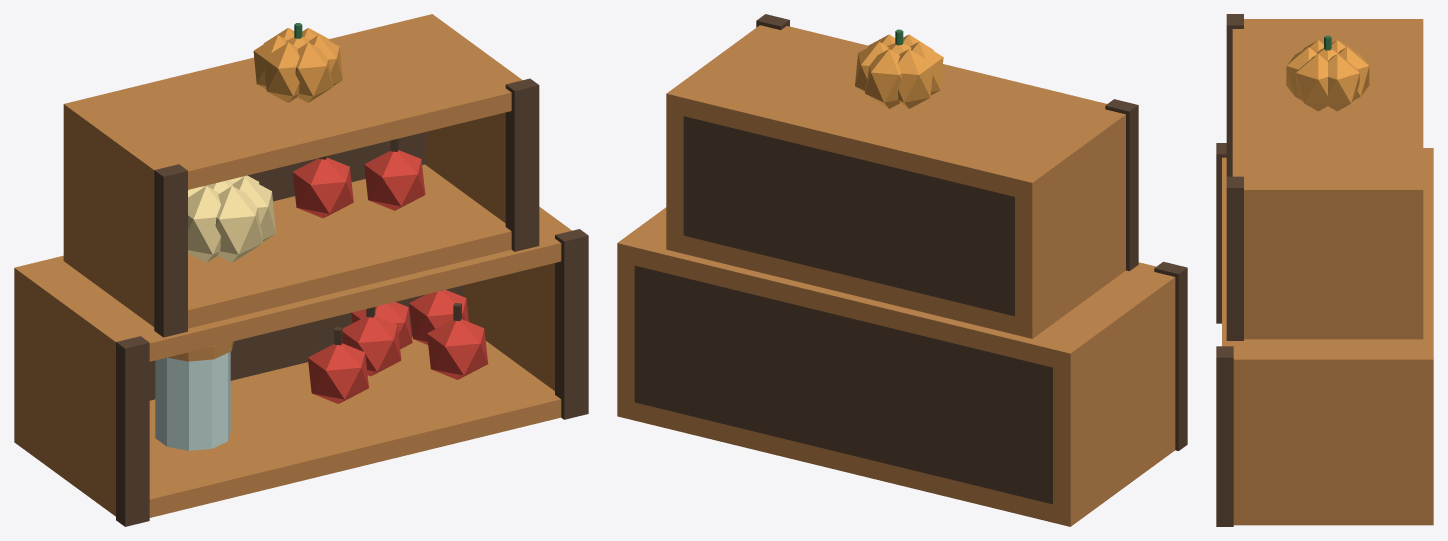
File: CatCafe_Decor_AppleCrateShelf.glb
3 renders of one model, left to right at view 1: azimuth 30°, elevation 25°; view 2: azimuth 150°, elevation 25°; view 3: azimuth 270°, elevation 25°, orthographic. The views are drawn at different scales.
Parts seen in each view (by area): view 1: CatCafe_Decor_AppleCrateShelf; view 2: CatCafe_Decor_AppleCrateShelf; view 3: CatCafe_Decor_AppleCrateShelf.
Boxes of the visible parts, box(x1,y1,x2,y2) form: CatCafe_Decor_AppleCrateShelf: box(14, 14, 588, 526); CatCafe_Decor_AppleCrateShelf: box(617, 14, 1187, 526); CatCafe_Decor_AppleCrateShelf: box(1216, 14, 1433, 526).
Size of the model in its own units: 2.64 by 2.19 by 1.13.
1 material, 1 textured.
